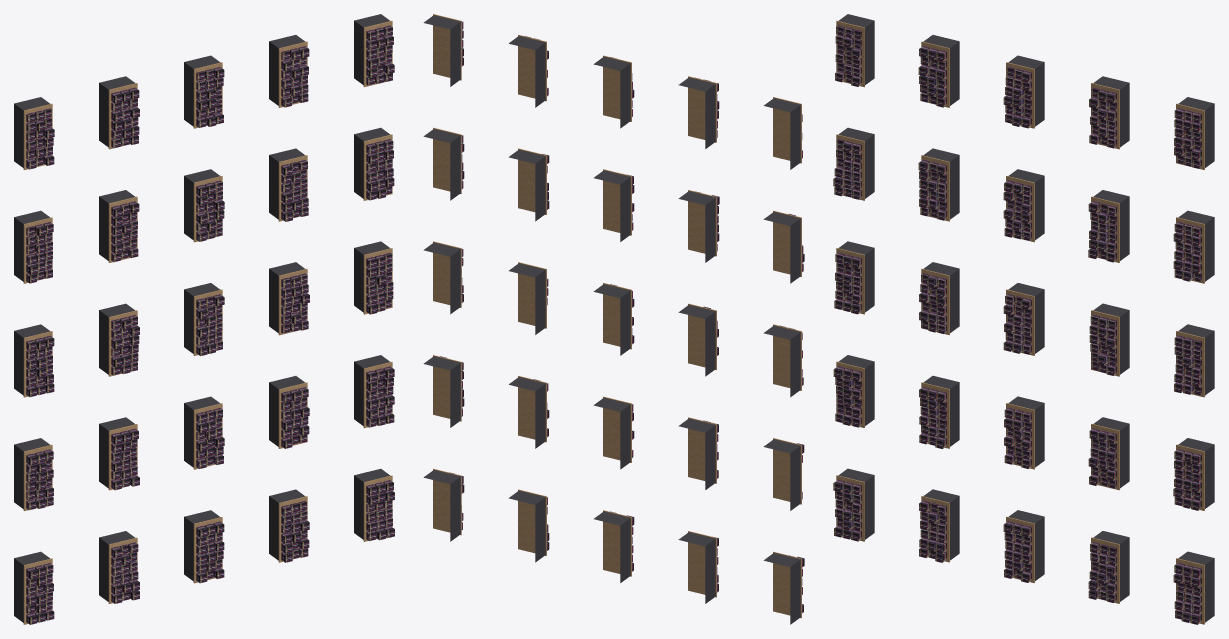
Rendered from tables_nw.gltf.
The picture shows the model from 3 angles, left to right: view 1: azimuth 30°, elevation 25°; view 2: azimuth 150°, elevation 25°; view 3: azimuth 330°, elevation 25°; orthographic projection.
Visible parts, largest first — view 1: tables_nw; view 2: tables_nw; view 3: tables_nw.
Part boxes in pixels (x1,y1,x2,y2): tables_nw: [14, 14, 394, 624]; tables_nw: [423, 14, 804, 624]; tables_nw: [833, 14, 1214, 624].
Bounding box in the file's own units: 15.6 × 20.8 × 1.15.
Materials: 3 (2 with a texture image).
